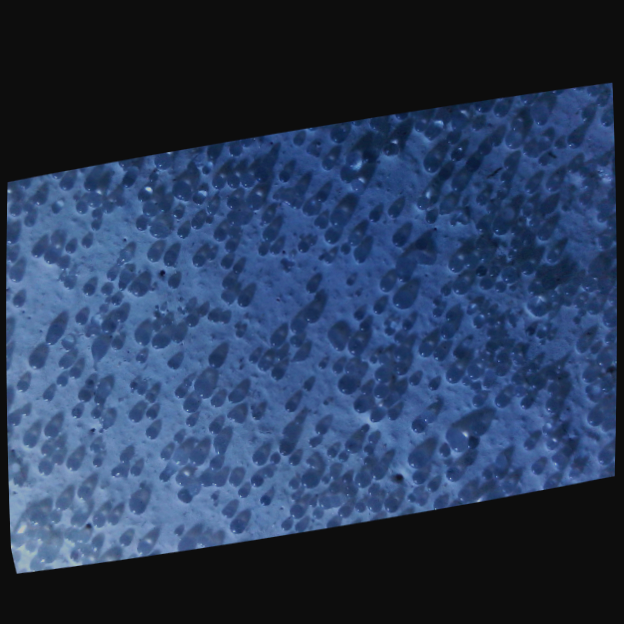GrassBeadSeg: (29, 110, 592, 569), (89, 97, 603, 451), (119, 179, 558, 546), (137, 172, 510, 554), (19, 128, 448, 457), (90, 219, 615, 477), (71, 237, 610, 467), (121, 112, 587, 376), (6, 132, 520, 369), (12, 295, 525, 511), (14, 203, 613, 387), (91, 228, 549, 467), (68, 242, 554, 464), (135, 255, 615, 476), (158, 144, 461, 490), (227, 136, 575, 419), (209, 172, 503, 501), (95, 210, 586, 403), (261, 195, 588, 478), (49, 332, 614, 495), (64, 256, 424, 506), (56, 328, 545, 511), (56, 329, 537, 507), (141, 137, 579, 331), (181, 278, 595, 481), (299, 213, 598, 488), (226, 194, 486, 500), (177, 149, 461, 423), (262, 244, 610, 465), (60, 219, 508, 386), (82, 327, 490, 499), (172, 157, 439, 418), (391, 144, 585, 501), (77, 261, 534, 403), (161, 157, 358, 483), (262, 250, 558, 463), (8, 267, 610, 367), (45, 249, 364, 437), (7, 316, 482, 442), (113, 382, 559, 514), (111, 338, 541, 474), (152, 248, 509, 407), (81, 283, 531, 407), (144, 278, 491, 438), (277, 132, 516, 362), (99, 362, 537, 485), (107, 176, 466, 326), (282, 132, 457, 439), (97, 152, 245, 514), (6, 228, 379, 371), (288, 228, 549, 430), (74, 201, 272, 460), (51, 143, 527, 250), (13, 267, 386, 398), (118, 245, 343, 462), (9, 204, 596, 286), (62, 276, 382, 423), (219, 258, 548, 398), (235, 309, 440, 533), (69, 267, 479, 379), (269, 202, 430, 486), (100, 284, 303, 509), (285, 302, 592, 445), (83, 298, 333, 470), (178, 181, 304, 519), (128, 157, 430, 296), (344, 271, 604, 431), (110, 295, 329, 484), (22, 352, 423, 454), (87, 283, 269, 506), (116, 203, 551, 291), (57, 135, 313, 282), (214, 277, 468, 422), (197, 217, 347, 462), (223, 241, 423, 424), (481, 181, 603, 474), (158, 254, 331, 460), (16, 317, 476, 394), (8, 414, 349, 517), (134, 294, 294, 513), (287, 326, 497, 490), (221, 203, 493, 324), (367, 220, 480, 511), (112, 195, 217, 508), (31, 246, 239, 402), (110, 268, 507, 349), (106, 284, 235, 533), (56, 256, 599, 315), (171, 182, 450, 292), (27, 355, 560, 412), (382, 220, 487, 508), (400, 319, 601, 469), (184, 244, 285, 529), (65, 178, 243, 338), (44, 384, 601, 435), (212, 229, 406, 375), (69, 277, 368, 371), (135, 217, 439, 309), (105, 217, 536, 281), (41, 326, 393, 401), (159, 210, 346, 347), (449, 211, 562, 433), (367, 210, 502, 394), (129, 334, 303, 476), (6, 213, 606, 254), (494, 85, 596, 318), (257, 256, 456, 371), (284, 128, 340, 530), (430, 169, 580, 319), (507, 163, 577, 482), (462, 116, 610, 266), (70, 254, 205, 418), (150, 367, 455, 438), (49, 390, 372, 456), (57, 139, 248, 249), (220, 312, 492, 388), (225, 176, 345, 348), (175, 175, 237, 485), (226, 197, 299, 460), (321, 286, 450, 433), (75, 389, 243, 501), (37, 461, 398, 513), (303, 132, 458, 249), (211, 435, 465, 506), (411, 343, 532, 485), (245, 173, 342, 350), (265, 214, 335, 458), (392, 205, 476, 408), (136, 354, 382, 422), (457, 104, 498, 502), (134, 409, 548, 448), (208, 453, 565, 498), (185, 282, 540, 327), (123, 455, 298, 546), (149, 333, 463, 382), (38, 423, 323, 476), (42, 250, 498, 283), (248, 311, 396, 411), (377, 277, 453, 468), (227, 205, 398, 289), (171, 242, 307, 343), (176, 226, 305, 332), (476, 299, 582, 428), (425, 278, 488, 492), (189, 346, 408, 406), (392, 267, 517, 372), (34, 277, 178, 368), (217, 193, 262, 480), (475, 137, 592, 243), (119, 194, 287, 267), (266, 228, 363, 354), (209, 394, 315, 509), (415, 283, 546, 376), (23, 434, 241, 489), (12, 414, 99, 551), (166, 357, 248, 498), (291, 100, 488, 158), (374, 210, 437, 390), (229, 241, 383, 314), (73, 283, 316, 325), (244, 116, 469, 160), (353, 292, 434, 414), (173, 357, 232, 516), (431, 261, 524, 361), (499, 103, 589, 205), (367, 355, 611, 392), (371, 355, 485, 434), (80, 237, 175, 331), (6, 311, 159, 368), (208, 381, 305, 469), (7, 231, 120, 306), (247, 239, 314, 364), (30, 193, 167, 254), (320, 216, 462, 272), (383, 144, 497, 212), (560, 116, 603, 296), (482, 232, 534, 380), (140, 326, 393, 356), (523, 310, 616, 389), (229, 229, 284, 360), (217, 175, 427, 209), (128, 386, 185, 511), (217, 244, 264, 394), (483, 156, 540, 279), (31, 192, 131, 262), (582, 96, 606, 383), (182, 375, 355, 412), (34, 239, 56, 526), (261, 228, 382, 280), (303, 309, 389, 381), (30, 333, 55, 572), (290, 202, 318, 413), (289, 424, 368, 498), (321, 334, 402, 406), (141, 145, 220, 217), (149, 167, 268, 214), (390, 233, 450, 325), (103, 298, 164, 388), (100, 309, 317, 334), (89, 329, 148, 420), (131, 306, 190, 395), (198, 447, 331, 486), (144, 398, 366, 421), (60, 396, 104, 511), (470, 203, 550, 265), (464, 95, 526, 171), (345, 121, 423, 181), (252, 444, 383, 479), (293, 384, 365, 447), (208, 237, 519, 251), (408, 438, 556, 467), (336, 364, 480, 393), (6, 300, 29, 478), (184, 408, 398, 427), (52, 439, 226, 462), (507, 285, 558, 363), (177, 490, 365, 511), (316, 435, 369, 508), (508, 111, 583, 162), (478, 310, 551, 362), (320, 254, 484, 277), (87, 377, 123, 477), (71, 194, 121, 265), (445, 364, 475, 481), (410, 419, 533, 447), (492, 424, 553, 480), (284, 394, 483, 411), (260, 214, 539, 226), (95, 174, 157, 228), (27, 189, 150, 216), (8, 348, 92, 387), (227, 211, 351, 237), (190, 218, 203, 464), (351, 302, 379, 413), (416, 210, 437, 357), (450, 95, 532, 131), (211, 176, 241, 274), (567, 298, 583, 480), (229, 184, 325, 214), (38, 443, 73, 523), (6, 179, 29, 300), (264, 367, 283, 503), (377, 347, 513, 366), (42, 438, 63, 561), (421, 380, 481, 423), (6, 251, 110, 274), (65, 312, 80, 471), (345, 149, 369, 247), (475, 120, 504, 201), (204, 245, 348, 261), (211, 453, 279, 486), (312, 217, 366, 258), (407, 374, 424, 501), (118, 433, 183, 466), (11, 473, 58, 516), (221, 197, 239, 305), (151, 408, 220, 435), (453, 435, 504, 471), (603, 293, 616, 432), (121, 166, 203, 188), (283, 268, 402, 283), (92, 439, 219, 453), (82, 390, 135, 423), (77, 526, 181, 542), (343, 438, 375, 490), (391, 232, 412, 309), (64, 210, 101, 253), (537, 310, 582, 345), (401, 324, 454, 353), (146, 226, 188, 262), (208, 458, 262, 486), (165, 449, 261, 464), (469, 374, 544, 393), (453, 347, 490, 385), (38, 179, 94, 204), (337, 149, 376, 182), (172, 449, 187, 529), (292, 479, 321, 520), (552, 141, 585, 177), (289, 198, 314, 242), (327, 438, 352, 482), (304, 363, 342, 391), (149, 311, 219, 326), (419, 120, 514, 131), (205, 203, 234, 239), (55, 376, 81, 416), (474, 226, 515, 250), (29, 543, 77, 563), (101, 175, 126, 213), (160, 307, 203, 328), (455, 100, 487, 127), (488, 137, 559, 149), (291, 484, 337, 502), (344, 362, 369, 395), (444, 312, 503, 325), (362, 435, 375, 494), (322, 210, 345, 243), (352, 472, 370, 513), (451, 346, 517, 357), (469, 119, 522, 132), (171, 193, 197, 219), (46, 510, 82, 527), (502, 156, 547, 169), (34, 532, 87, 543), (478, 249, 516, 263), (506, 224, 520, 261), (518, 374, 539, 398), (91, 513, 104, 549), (24, 531, 44, 553), (89, 178, 97, 230), (21, 178, 32, 214), (339, 485, 355, 508), (494, 351, 522, 364), (495, 365, 516, 382), (22, 201, 34, 228), (191, 193, 211, 208), (201, 145, 210, 176), (494, 351, 506, 373), (511, 373, 521, 398), (158, 201, 177, 212), (278, 442, 292, 455), (58, 178, 72, 191), (291, 184, 303, 199), (189, 306, 205, 317), (227, 474, 240, 485), (480, 470, 491, 480), (106, 514, 117, 524), (494, 283, 504, 293), (30, 513, 34, 523)
